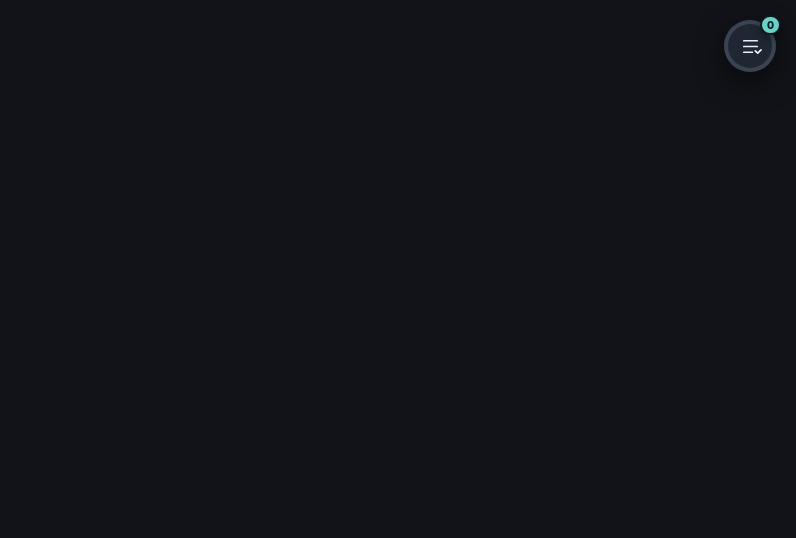
Scenario: scopes pause and resume controls to the caller's queue job grant
Click the button named "Open scans queue and history": (750, 46) top-left (724, 20), bottom-right (776, 72)
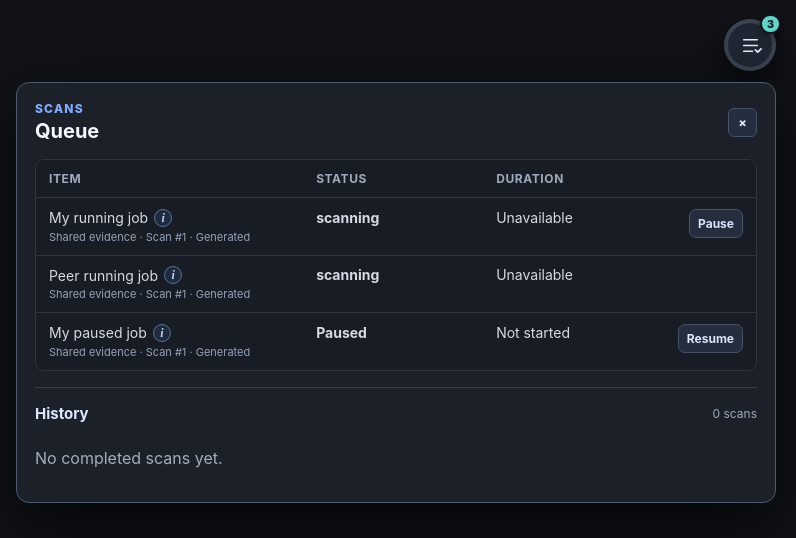
Expected: the button "Pause" is shown, top-left (689, 209), bottom-right (743, 238)
Expected: the button "Resume" is shown, top-left (678, 324), bottom-right (743, 353)
